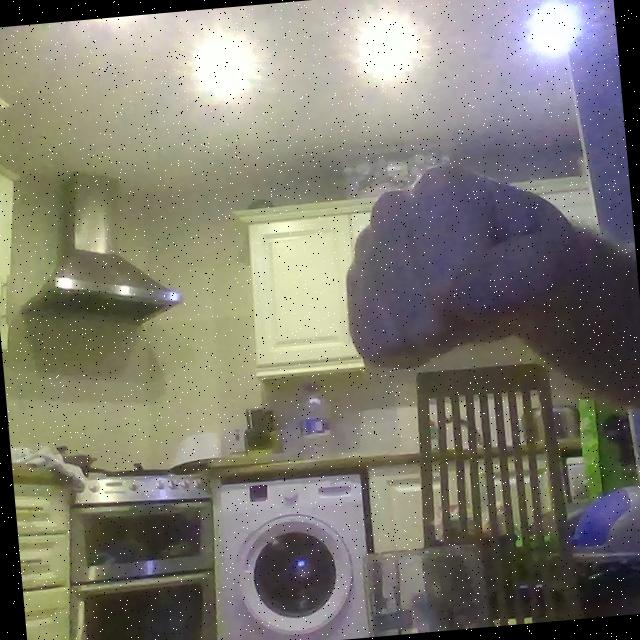rock: (336, 150, 578, 380)
